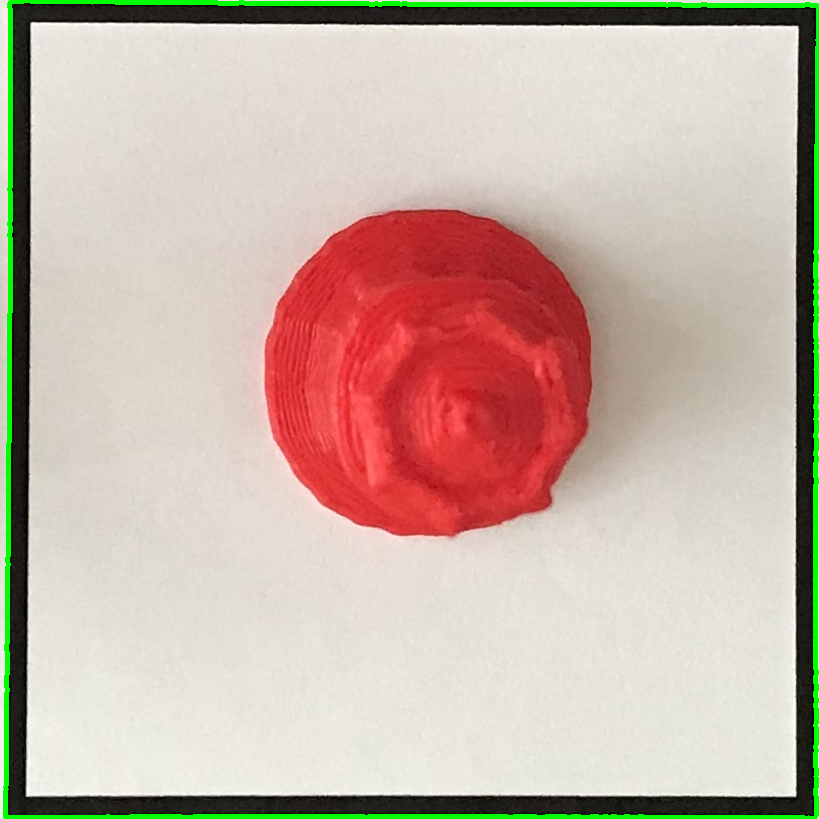Red Queen: (249, 192, 609, 561)
